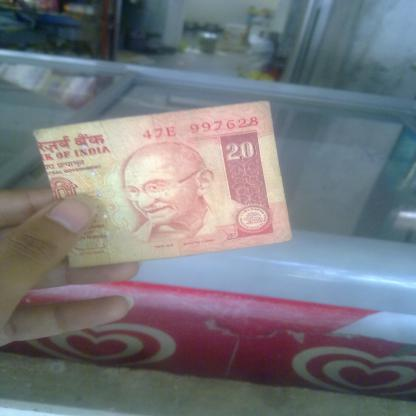Old20Front: (37, 110, 271, 254)
